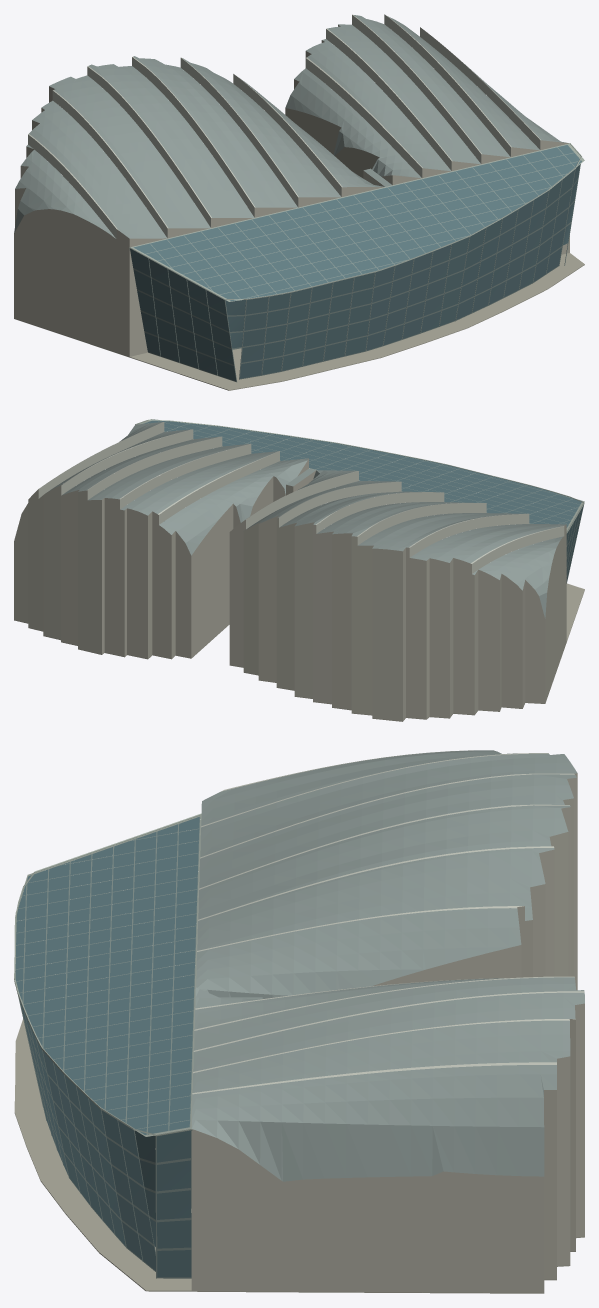
File: kauffman-center-kansas-city-near.glb
3 renders of one model, top to bottom at view 1: azimuth 30°, elevation 25°; view 2: azimuth 150°, elevation 25°; view 3: azimuth 270°, elevation 25°, orthographic. The views are drawn at different scales.
Visible parts, largest first — view 1: kauffman-center-kansas-city-0-glass, kauffman-center-kansas-city-0-silver, kauffman-center-kansas-city-0-side, kauffman-center-kansas-city-0-rib, kauffman-center-kansas-city-0-frame, kauffman-center-kansas-city-0-stone, kauffman-center-kansas-city-0-rim; view 2: kauffman-center-kansas-city-0-side, kauffman-center-kansas-city-0-silver, kauffman-center-kansas-city-0-rib, kauffman-center-kansas-city-0-glass, kauffman-center-kansas-city-0-frame, kauffman-center-kansas-city-0-stone, kauffman-center-kansas-city-0-rim; view 3: kauffman-center-kansas-city-0-silver, kauffman-center-kansas-city-0-side, kauffman-center-kansas-city-0-glass, kauffman-center-kansas-city-0-frame, kauffman-center-kansas-city-0-stone, kauffman-center-kansas-city-0-rib, kauffman-center-kansas-city-0-rim.
Boxes of the visible parts, x1=… form: kauffman-center-kansas-city-0-glass: x1=130, y1=145, x2=581, y2=381; kauffman-center-kansas-city-0-silver: x1=14, y1=15, x2=568, y2=238; kauffman-center-kansas-city-0-side: x1=14, y1=25, x2=569, y2=356; kauffman-center-kansas-city-0-rib: x1=28, y1=14, x2=540, y2=238; kauffman-center-kansas-city-0-frame: x1=129, y1=144, x2=581, y2=382; kauffman-center-kansas-city-0-stone: x1=14, y1=253, x2=584, y2=390; kauffman-center-kansas-city-0-rim: x1=129, y1=143, x2=584, y2=301; kauffman-center-kansas-city-0-side: x1=14, y1=459, x2=566, y2=721; kauffman-center-kansas-city-0-silver: x1=47, y1=422, x2=566, y2=618; kauffman-center-kansas-city-0-rib: x1=38, y1=422, x2=564, y2=573; kauffman-center-kansas-city-0-glass: x1=143, y1=419, x2=583, y2=581; kauffman-center-kansas-city-0-frame: x1=143, y1=419, x2=583, y2=583; kauffman-center-kansas-city-0-stone: x1=14, y1=583, x2=584, y2=721; kauffman-center-kansas-city-0-rim: x1=135, y1=419, x2=584, y2=532; kauffman-center-kansas-city-0-silver: x1=191, y1=750, x2=584, y2=1181; kauffman-center-kansas-city-0-side: x1=191, y1=773, x2=584, y2=1292; kauffman-center-kansas-city-0-glass: x1=15, y1=817, x2=199, y2=1277; kauffman-center-kansas-city-0-frame: x1=16, y1=816, x2=200, y2=1278; kauffman-center-kansas-city-0-stone: x1=14, y1=1019, x2=584, y2=1293; kauffman-center-kansas-city-0-rib: x1=192, y1=750, x2=584, y2=1094; kauffman-center-kansas-city-0-rim: x1=14, y1=813, x2=201, y2=1136.
Size of the model in its own units: 116 by 40.5 by 79.53.
